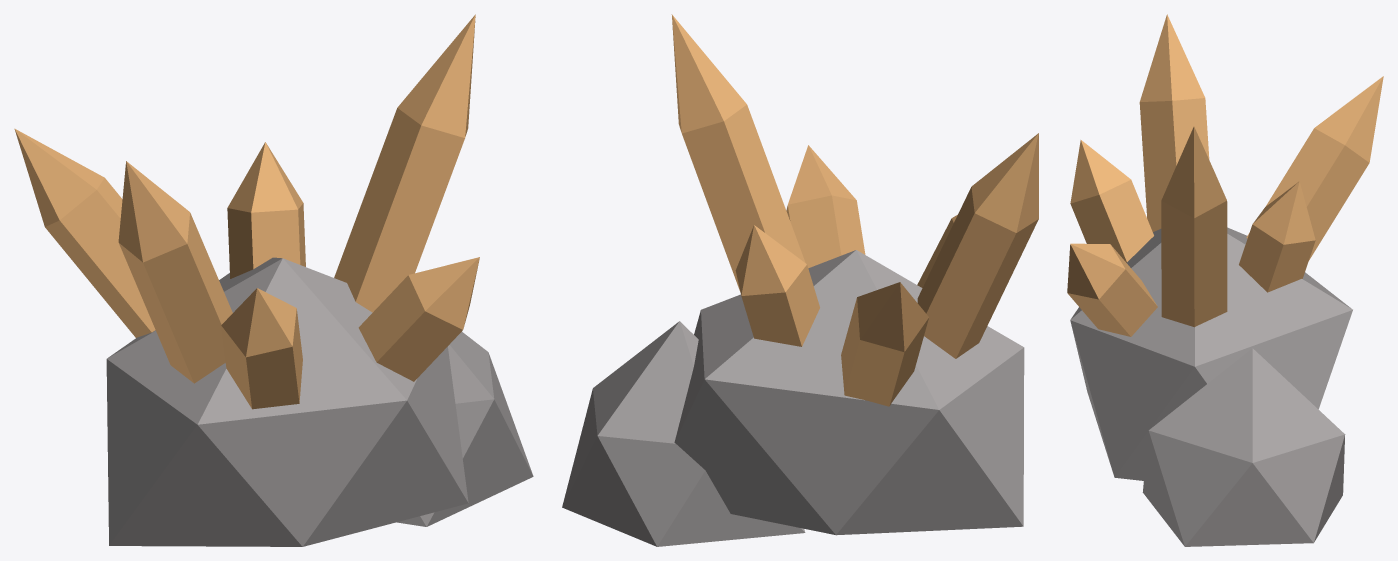
Rendered from ore_outcrop.glb.
The picture shows the model from 3 angles, left to right: view 1: azimuth 30°, elevation 25°; view 2: azimuth 150°, elevation 25°; view 3: azimuth 270°, elevation 25°; orthographic projection. The views are drawn at different scales.
Visible parts, largest first — view 1: ore_outcrop; view 2: ore_outcrop; view 3: ore_outcrop.
Part boxes in pixels (x1,y1,x2,y2): ore_outcrop: [14, 14, 533, 546]; ore_outcrop: [562, 14, 1038, 546]; ore_outcrop: [1067, 14, 1383, 546].
Bounding box in the file's own units: 1.06 × 1.15 × 0.8229.
